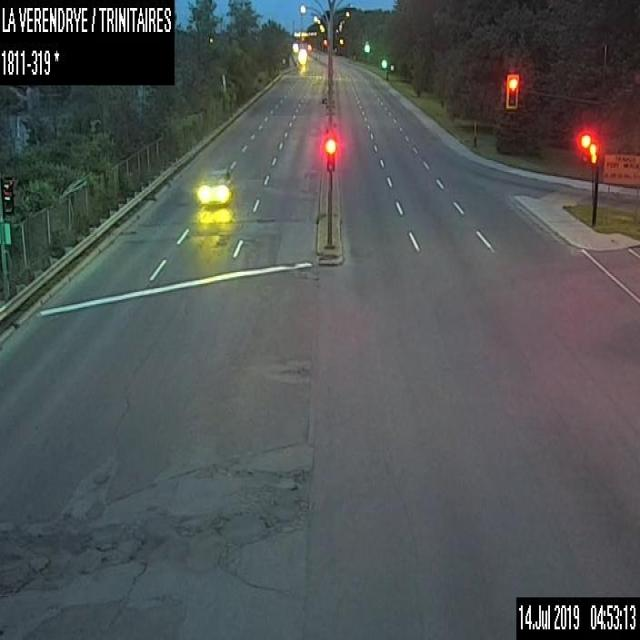vehicle: (198, 168, 234, 204)
